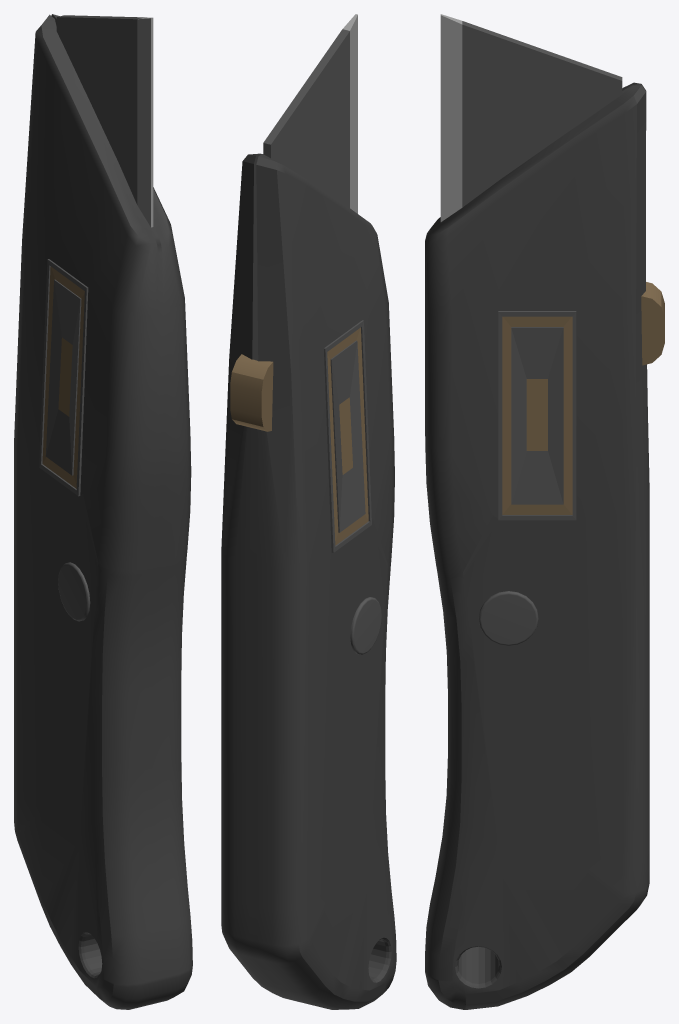
File: Stanley knife.fbx
3 views of the same model, side by side, from view 1: azimuth 30°, elevation 25°; view 2: azimuth 150°, elevation 25°; view 3: azimuth 270°, elevation 25° (orthographic). The views are drawn at different scales.
Visible parts, largest first — view 1: pCube4, pCube2, pCylinder1; view 2: pCube4, pCube2, pCube3, pCylinder1; view 3: pCube4, pCube2, pCylinder1, pCube3.
Part boxes in pixels (x1=…): pCube4: x1=14, y1=14, x2=192, y2=1009; pCube2: x1=56, y1=15, x2=153, y2=227; pCylinder1: x1=58, y1=562, x2=90, y2=621; pCube4: x1=221, y1=153, x2=396, y2=1009; pCube2: x1=263, y1=14, x2=357, y2=213; pCube3: x1=230, y1=354, x2=273, y2=431; pCylinder1: x1=350, y1=597, x2=381, y2=654; pCube4: x1=425, y1=82, x2=649, y2=1009; pCube2: x1=440, y1=14, x2=622, y2=221; pCylinder1: x1=478, y1=591, x2=538, y2=645; pCube3: x1=641, y1=282, x2=664, y2=365.
Bounding box in the file's own units: 0.4648 × 4.84 × 1.07.
